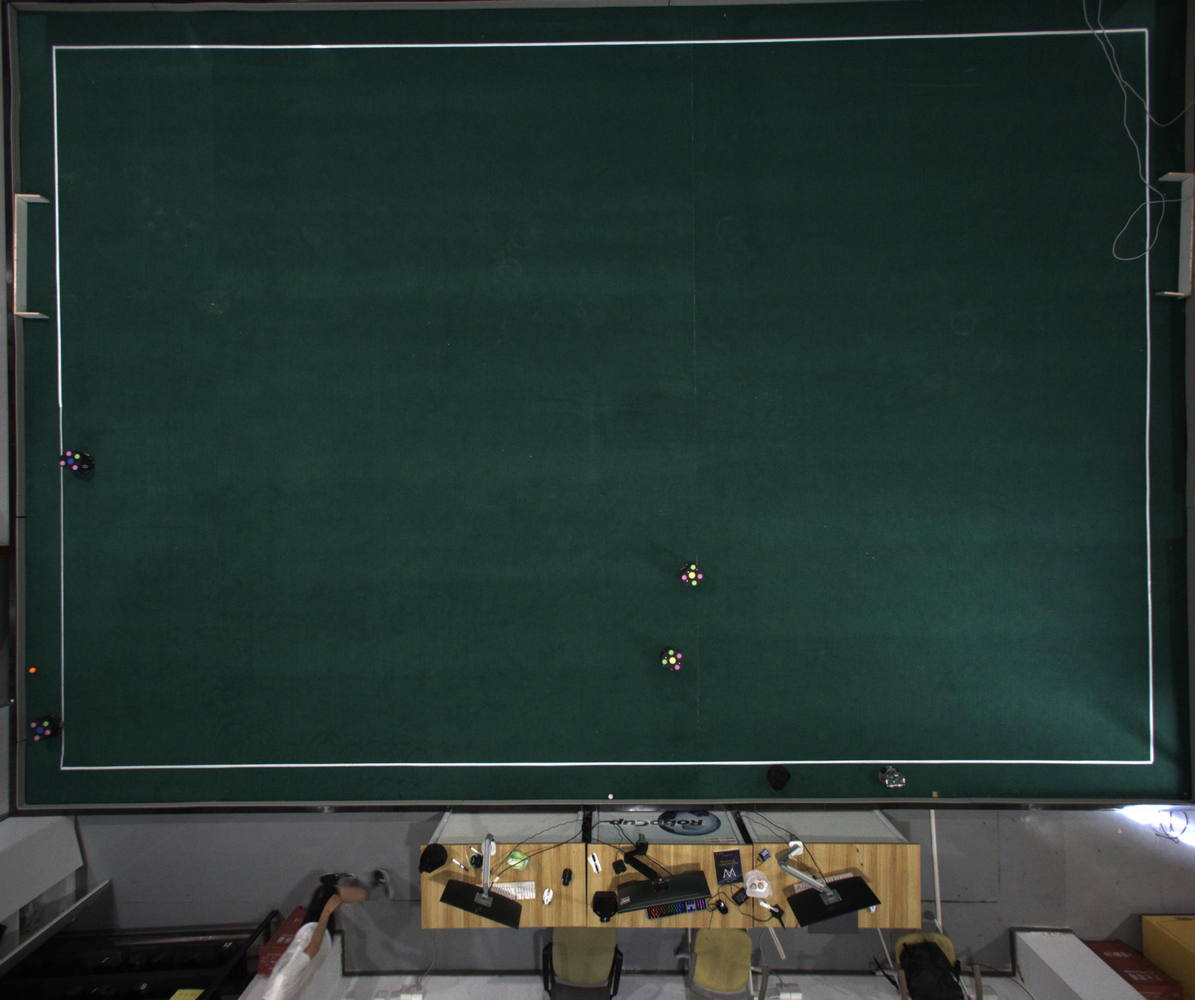ball: (29, 666, 37, 675)
blue_bot: (58, 448, 96, 476), (29, 716, 64, 742)
yellow_bot: (678, 562, 705, 589), (659, 646, 685, 674)
